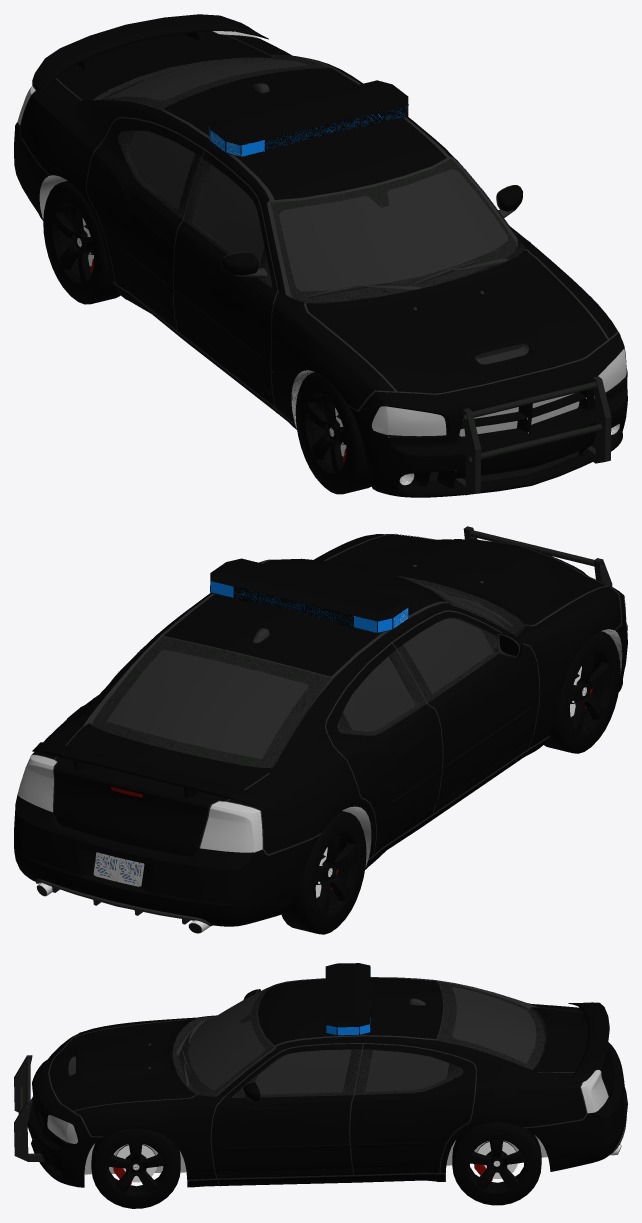
The model's file is charger-police.glb.
3 renders of one model, top to bottom at view 1: azimuth 30°, elevation 25°; view 2: azimuth 150°, elevation 25°; view 3: azimuth 270°, elevation 25°, orthographic. The views are drawn at different scales.
Visible parts, largest first — view 1: Object_11, Object_16, Object_9, Object_20, Object_7, Object_6, Object_5, Object_15, Object_4, Object_17; view 2: Object_11, Object_16, Object_9, Object_20, Object_7, Object_6, Object_5, Object_15, Object_17, Object_2, Object_4; view 3: Object_11, Object_16, Object_9, Object_20, Object_7, Object_5, Object_6, Object_15, Object_19, Object_4, Object_17.
Part boxes in pixels (x1,y1,x2,y2): Object_11: [14, 14, 627, 497]; Object_16: [21, 36, 616, 408]; Object_9: [19, 31, 620, 488]; Object_20: [14, 14, 627, 497]; Object_7: [92, 57, 611, 495]; Object_6: [210, 80, 408, 157]; Object_5: [50, 200, 532, 478]; Object_15: [17, 31, 626, 436]; Object_4: [39, 175, 586, 470]; Object_17: [209, 105, 407, 156]; Object_11: [14, 534, 627, 934]; Object_16: [33, 534, 620, 854]; Object_9: [30, 533, 621, 926]; Object_20: [14, 534, 627, 934]; Object_7: [37, 526, 612, 933]; Object_6: [210, 558, 408, 633]; Object_5: [314, 635, 613, 918]; Object_15: [17, 600, 626, 852]; Object_17: [210, 581, 408, 632]; Object_2: [93, 852, 144, 886]; Object_4: [342, 629, 622, 867]; Object_11: [27, 977, 627, 1208]; Object_16: [75, 978, 585, 1178]; Object_9: [48, 977, 626, 1186]; Object_20: [28, 979, 627, 1208]; Object_7: [14, 981, 621, 1161]; Object_5: [103, 990, 529, 1198]; Object_6: [325, 963, 370, 1035]; Object_15: [47, 1070, 608, 1143]; Object_19: [116, 1141, 517, 1182]; Object_4: [84, 1135, 547, 1186]; Object_17: [326, 967, 370, 1035].
Bounding box in the file's own units: 28.62 × 21.91 × 71.61.
Materials: 26 (7 with a texture image).
